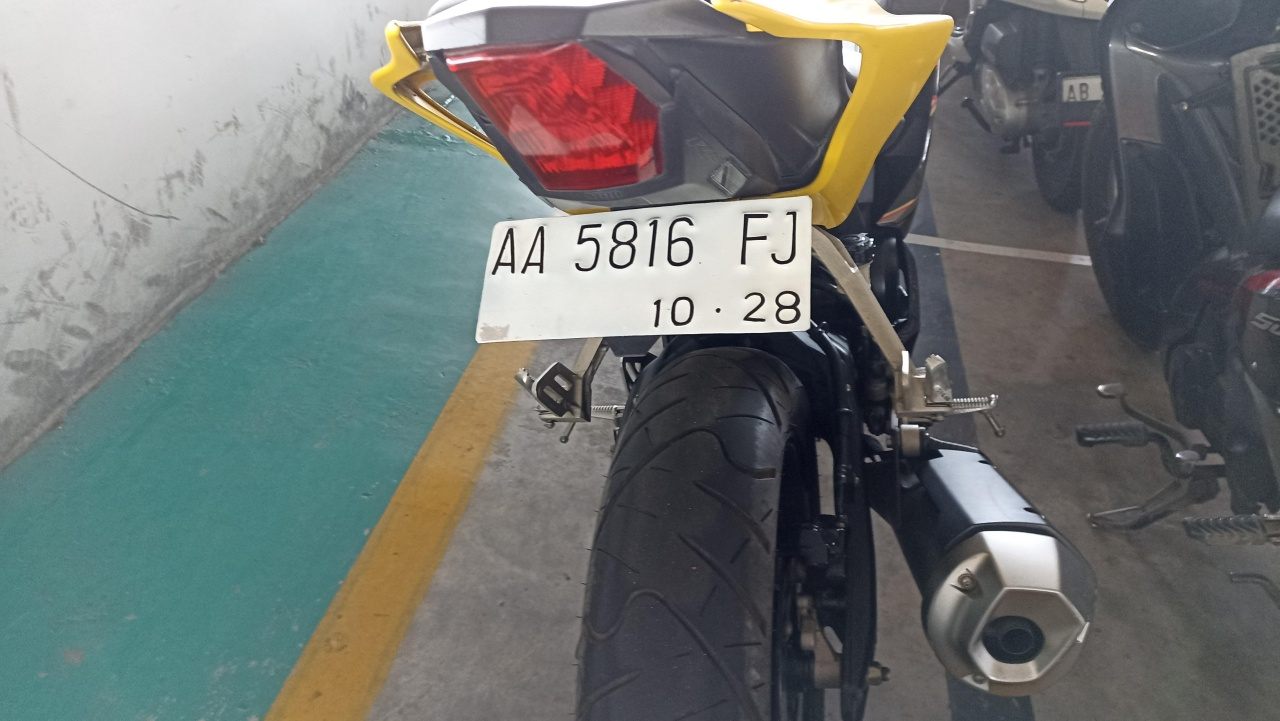plate: (476, 195, 812, 347)
